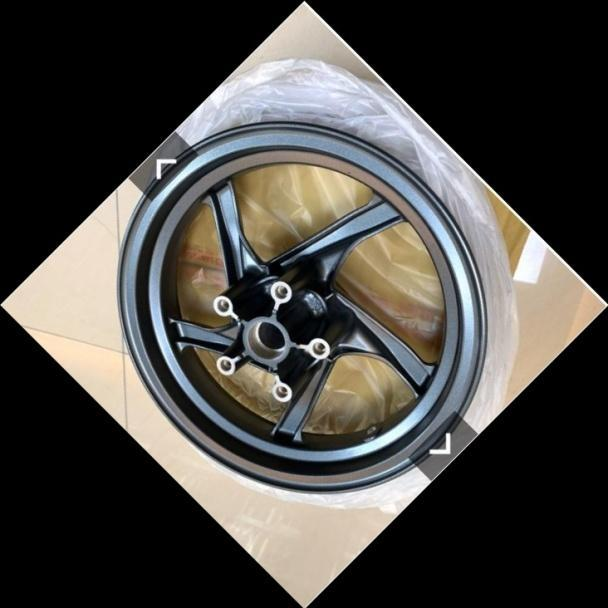hole: (301, 330, 333, 362), (207, 289, 237, 319), (265, 376, 295, 406), (265, 277, 293, 305), (210, 351, 237, 377)
